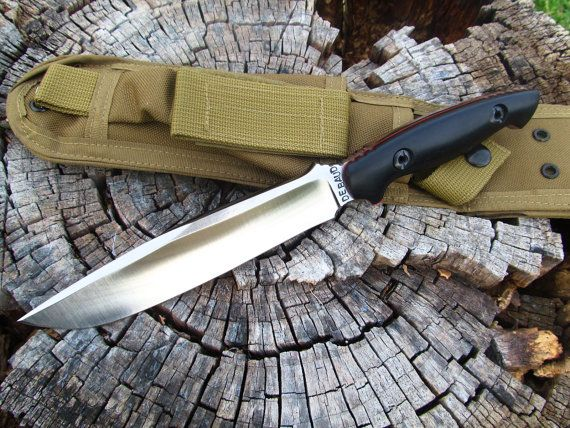knife: (9, 151, 371, 336)
